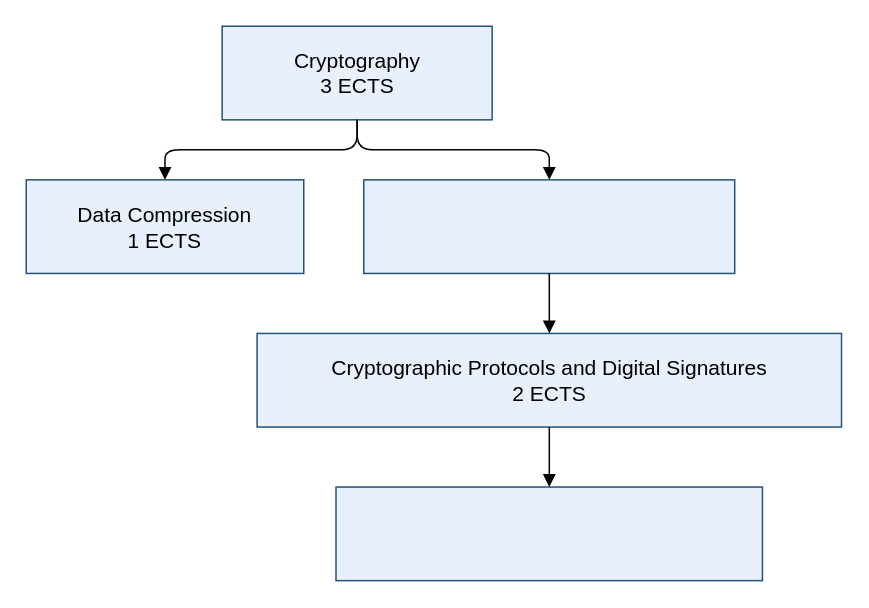
This 869x608 diagram has some shape labels left out. Here are the shapes that lost their labels. From the top down, the centre of each, then its label:
At point (548, 225): "Cryptographic Foundations 2 ECTS".
At point (548, 533): "Cryptographic Protocol Analysis 1 ECTS".
